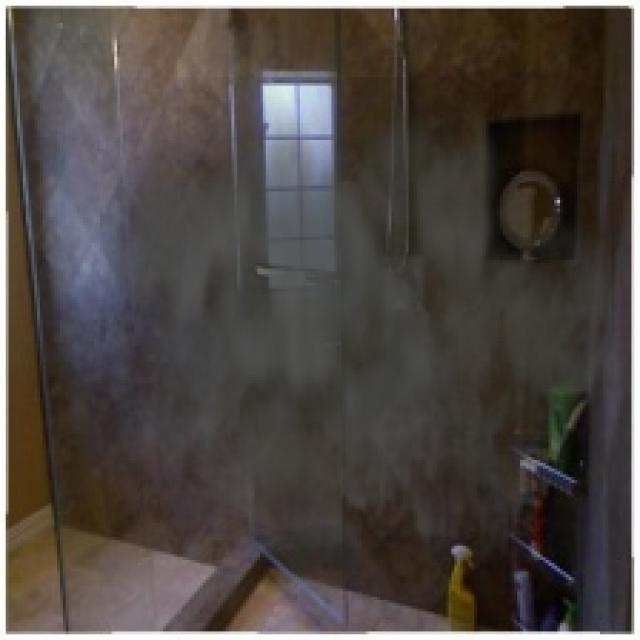smoke: (86, 77, 611, 606)
